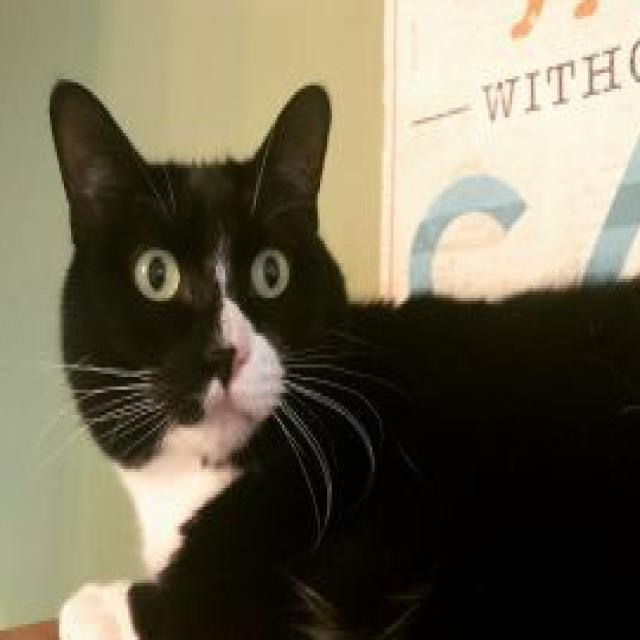Tuxedo: (45, 73, 640, 640)
